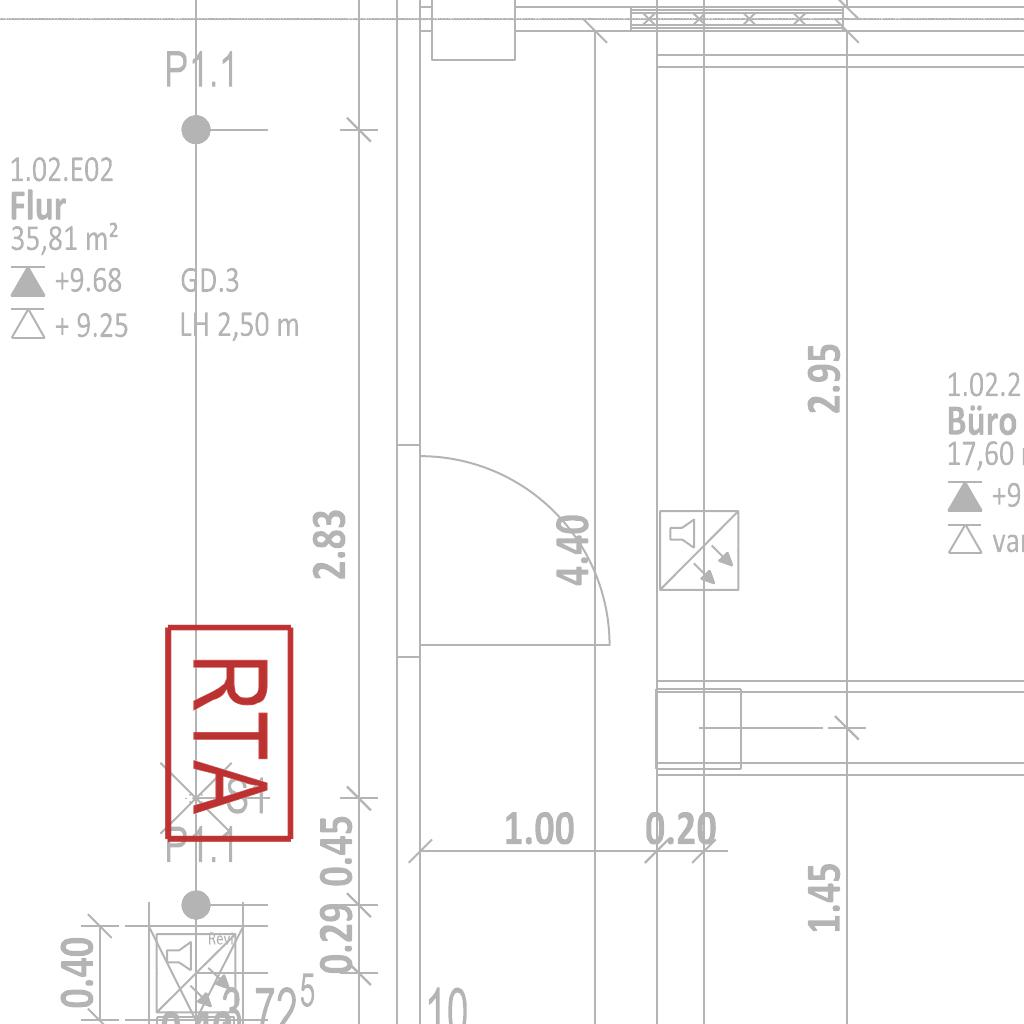Ruf-und_Abstelltaster: (160, 617, 298, 845)
